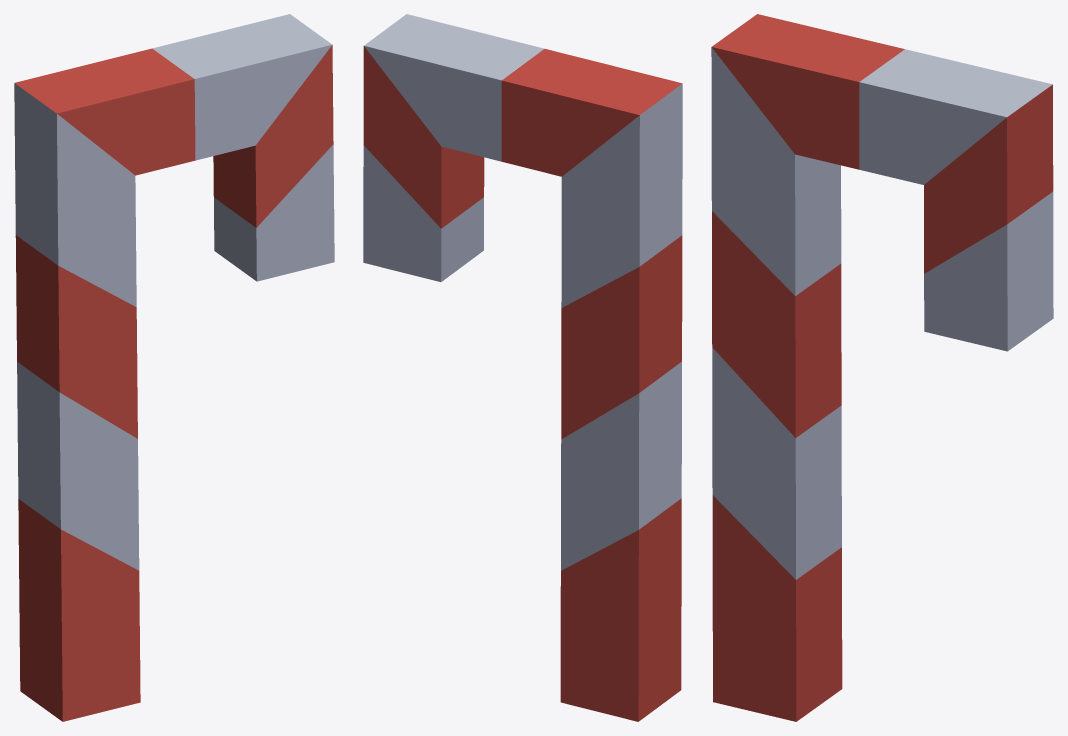
File: Christmas_40.fbx
The picture shows the model from 3 angles, left to right: view 1: azimuth 30°, elevation 25°; view 2: azimuth 150°, elevation 25°; view 3: azimuth 330°, elevation 25°; orthographic projection. The views are drawn at different scales.
Parts seen in each view (by area): view 1: Christmas_40; view 2: Christmas_40; view 3: Christmas_40.
Boxes of the visible parts, left/top/right/bottom form: Christmas_40: left=14, top=14, right=334, bottom=721; Christmas_40: left=363, top=14, right=682, bottom=721; Christmas_40: left=711, top=14, right=1053, bottom=721.
Bounding box in the file's own units: 160 × 338 × 45.13.
1 material, 1 textured.
